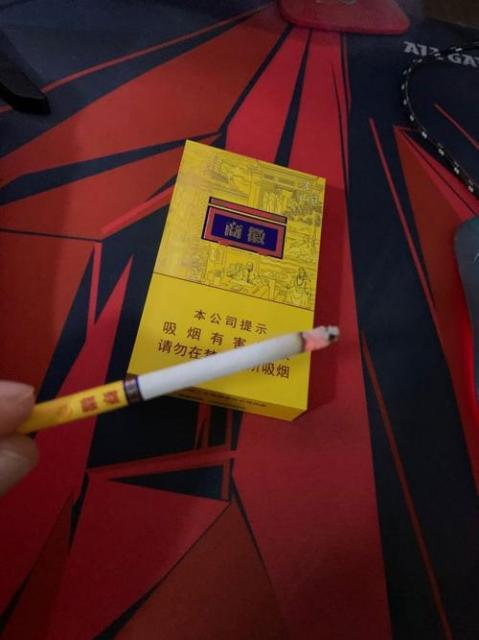Smoking: (15, 326, 342, 434)
